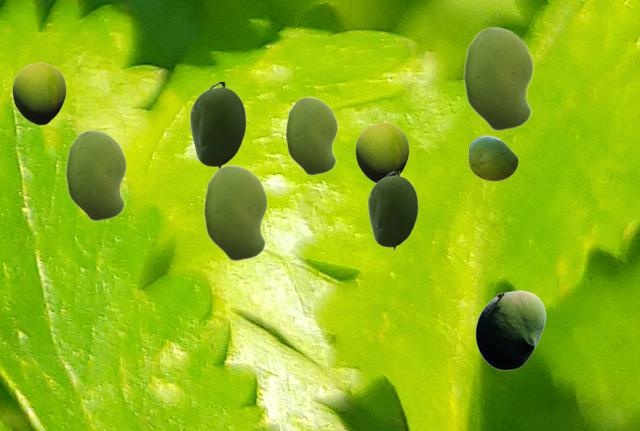green_mango: (463, 26, 533, 131), (203, 164, 267, 261), (65, 129, 126, 221), (475, 290, 545, 369), (189, 82, 245, 167), (285, 96, 337, 175), (367, 171, 417, 250), (12, 62, 65, 124), (355, 122, 408, 182), (468, 135, 517, 180)
